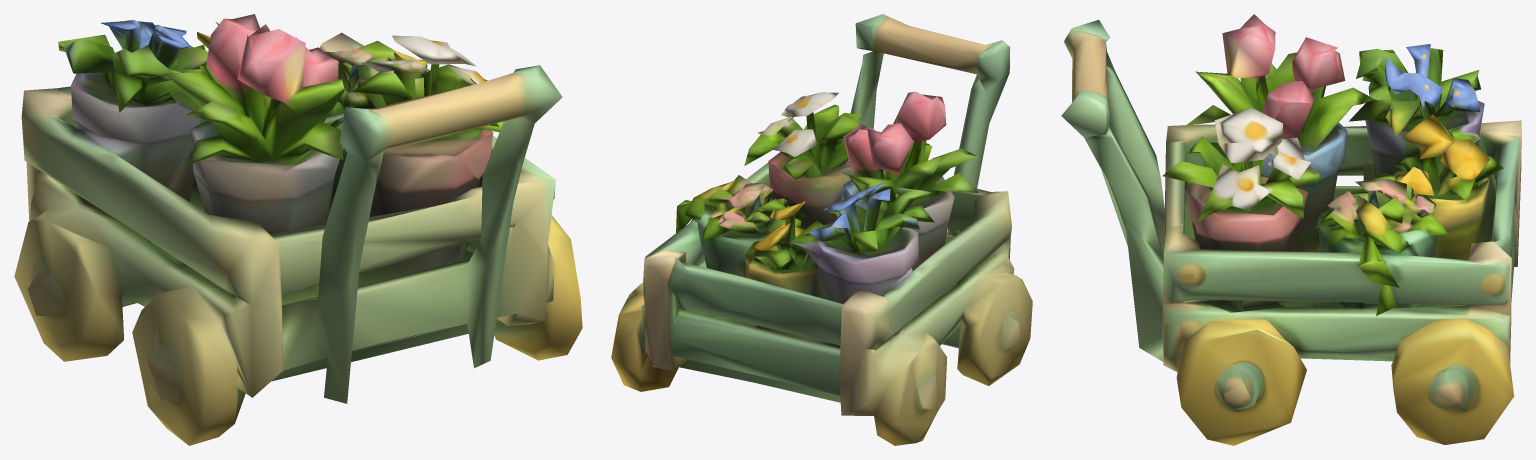
File: Kit_M_FlowerCart_raw.glb
3 views of the same model, side by side, from view 1: azimuth 30°, elevation 25°; view 2: azimuth 150°, elevation 25°; view 3: azimuth 270°, elevation 25° (orthographic). The views are drawn at different scales.
Visible parts, largest first — view 1: tripo_node_c5f75146-99b5-40ec-93d0-985ac2ce550b; view 2: tripo_node_c5f75146-99b5-40ec-93d0-985ac2ce550b; view 3: tripo_node_c5f75146-99b5-40ec-93d0-985ac2ce550b.
Part boxes in pixels (x1=…): tripo_node_c5f75146-99b5-40ec-93d0-985ac2ce550b: x1=14, y1=14, x2=582, y2=445; tripo_node_c5f75146-99b5-40ec-93d0-985ac2ce550b: x1=611, y1=14, x2=1032, y2=445; tripo_node_c5f75146-99b5-40ec-93d0-985ac2ce550b: x1=1061, y1=14, x2=1521, y2=445.
Bounding box in the file's own units: 0.871 × 0.7652 × 1.
1 material, 1 textured.
